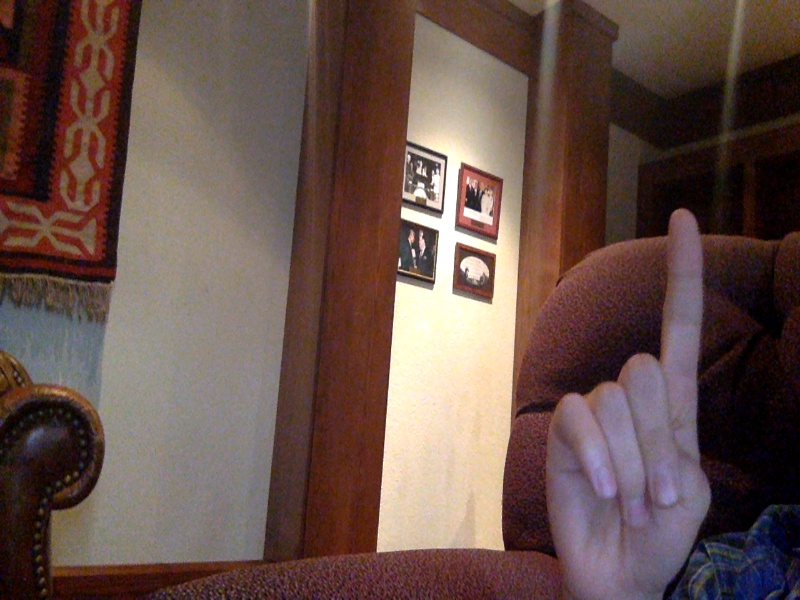1-hand: (543, 206, 710, 600)
